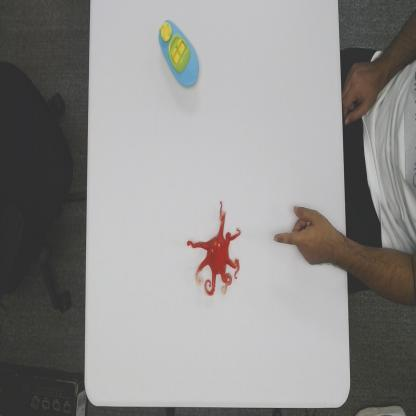Boat: (157, 19, 200, 90)
Hand: (274, 204, 346, 267)
Octopus: (186, 200, 241, 296)
